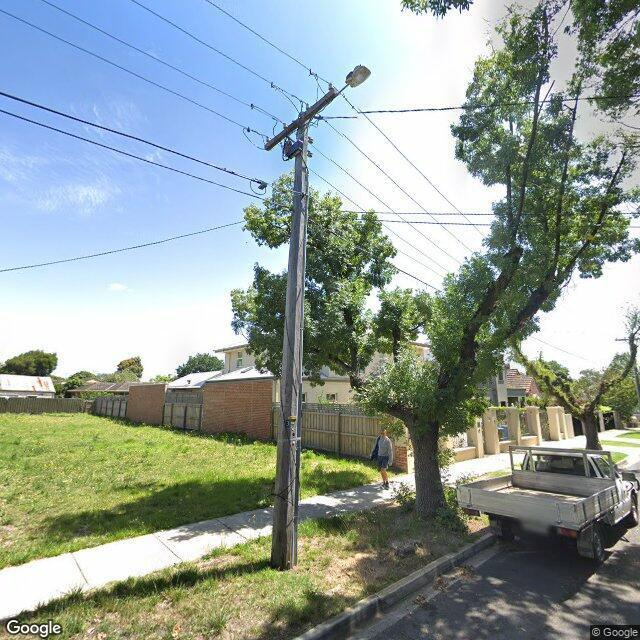crossarm: (243, 68, 338, 152), (614, 337, 640, 341)
streetlight: (336, 65, 371, 96)
timber-pole: (270, 110, 312, 570), (628, 334, 640, 399)
